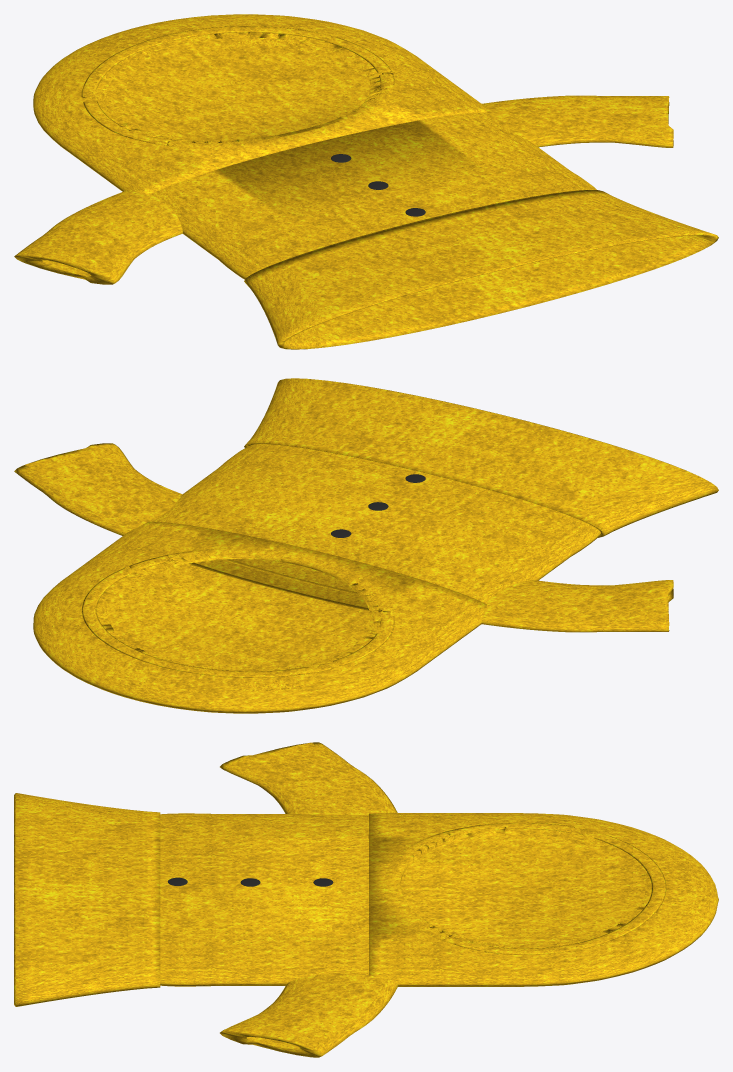
File: raincoat1.fbx
The picture shows the model from 3 angles, top to bottom: view 1: azimuth 30°, elevation 25°; view 2: azimuth 150°, elevation 25°; view 3: azimuth 270°, elevation 25°; orthographic projection. The views are drawn at different scales.
Parts seen in each view (by area): view 1: raincoat1; view 2: raincoat1; view 3: raincoat1.
Boxes of the visible parts, x1,y1,x2,y2 form: raincoat1: (14, 14, 718, 349); raincoat1: (14, 378, 718, 713); raincoat1: (14, 742, 718, 1057).
Bounding box in the file's own units: 1.62 × 0.105 × 1.55.
Materials: 2 (1 with a texture image).
